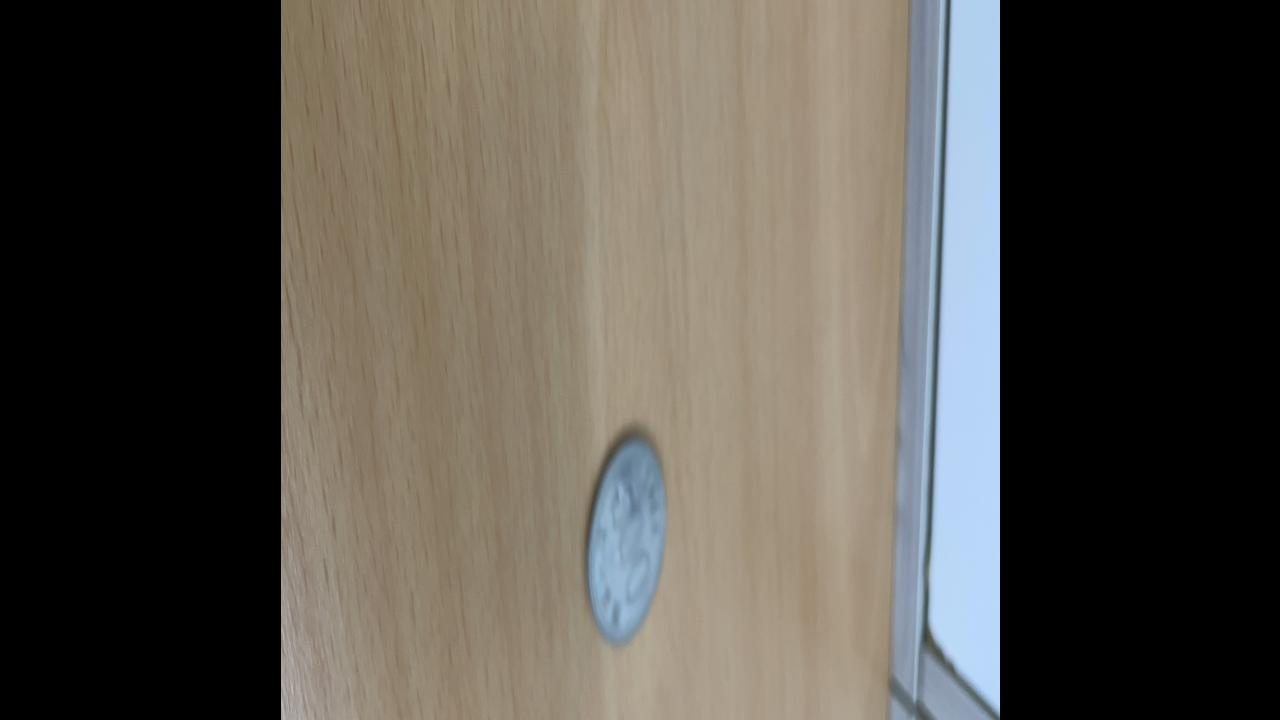coin: (584, 432, 668, 648)
